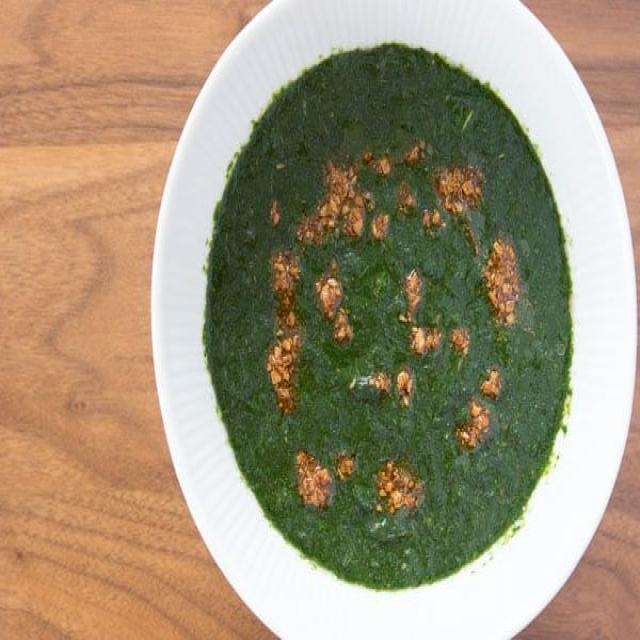Molokhya: (183, 0, 595, 640)
